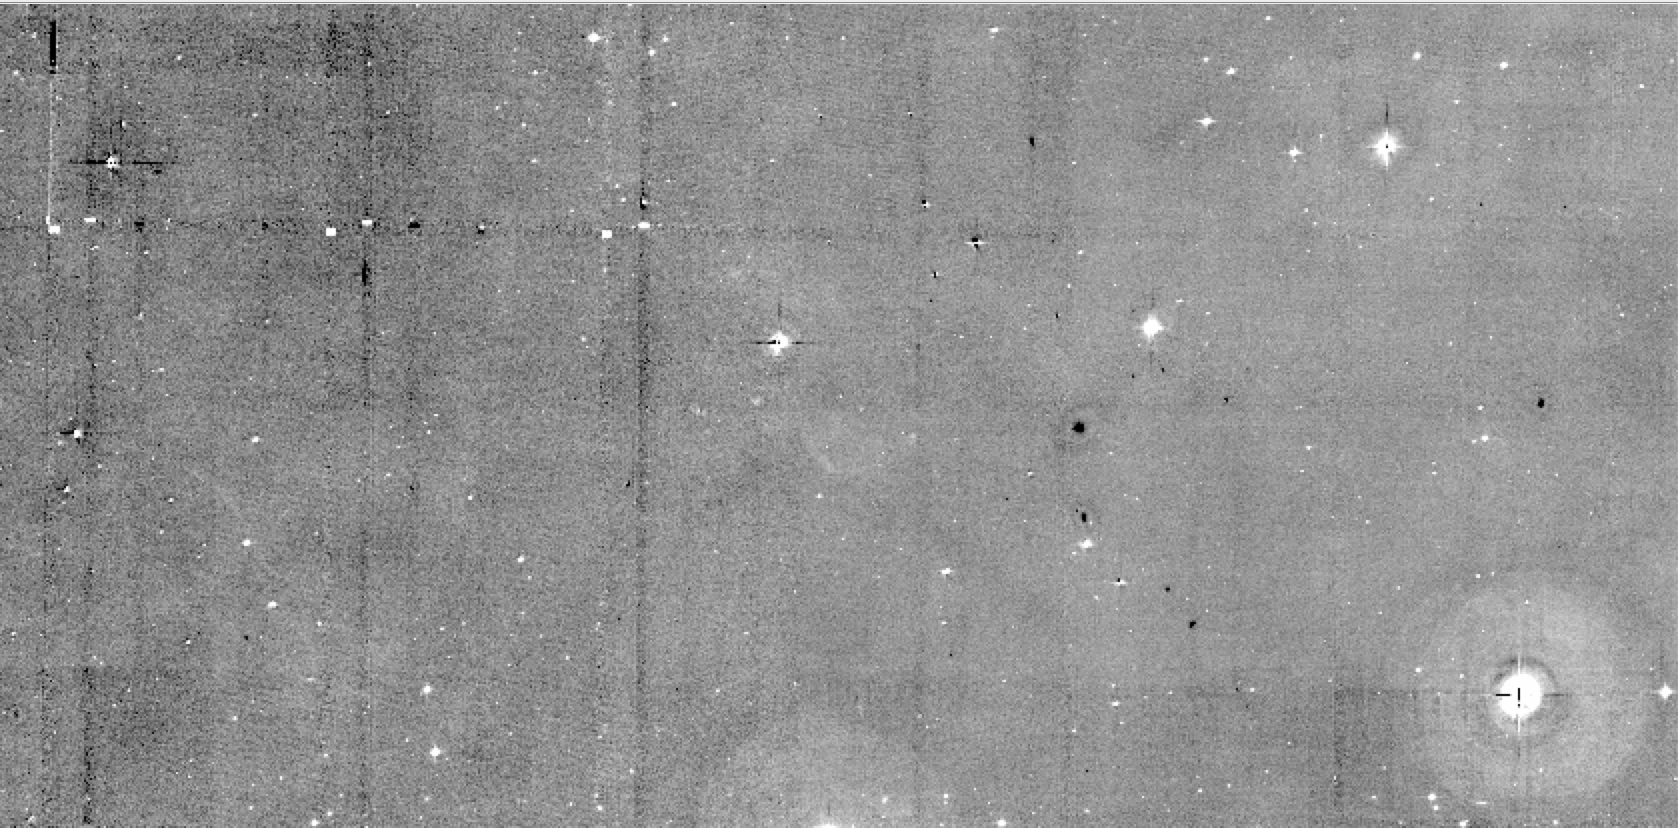Halpha: (129, 415, 335, 641), (701, 378, 918, 536)
